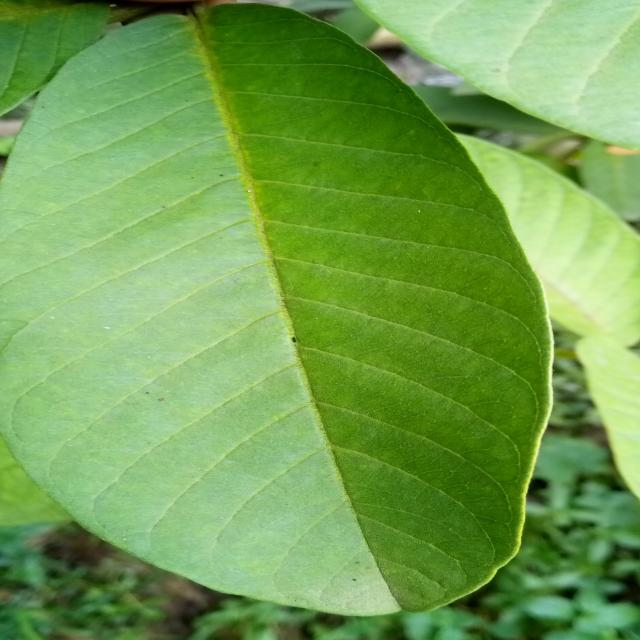Disease Free: (2, 5, 551, 615)
